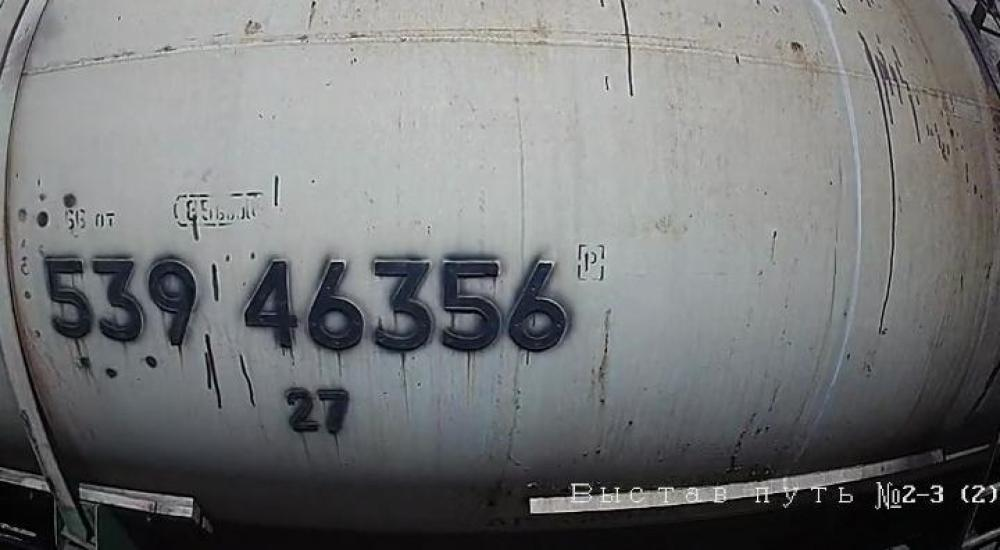Wagon-number: (43, 247, 578, 360)
